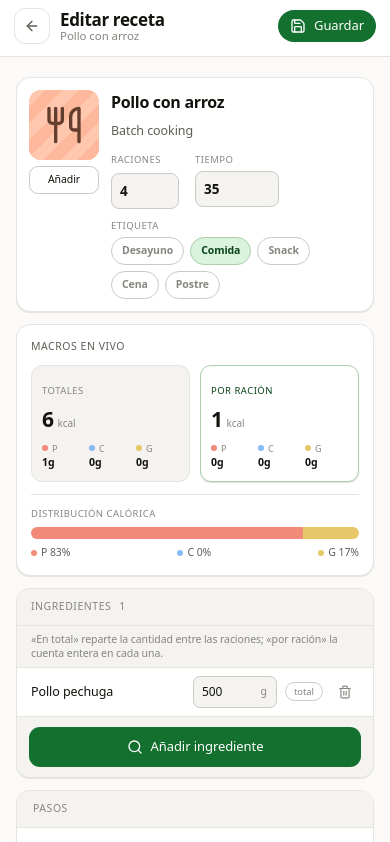
Test: RecetaEditorPage — editing an existing recipe › never sends an out-of-range prep time — it stops at the form, with the localized message
Replace the text in the field labelled "Tiempo" with "99999999999": point(237, 189) [195, 171, 279, 207]
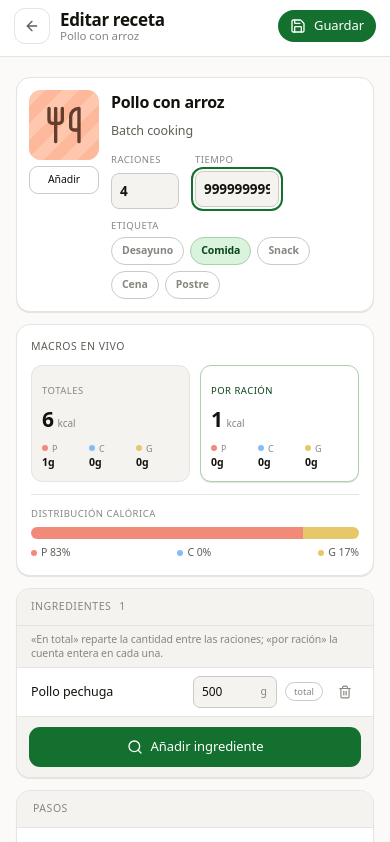
Click the button "Guardar": point(327, 26) [278, 10, 376, 42]
(page scrolled)
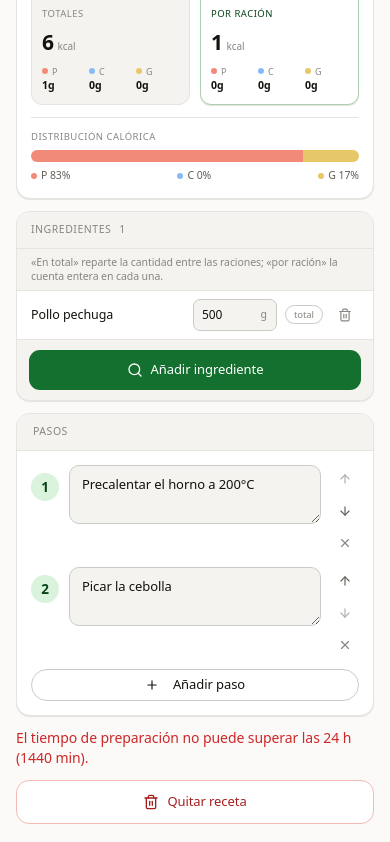
Result: the message reads "El tiempo de preparación no puede superar las 24 h (1440 min)." at [16, 728, 351, 767]
